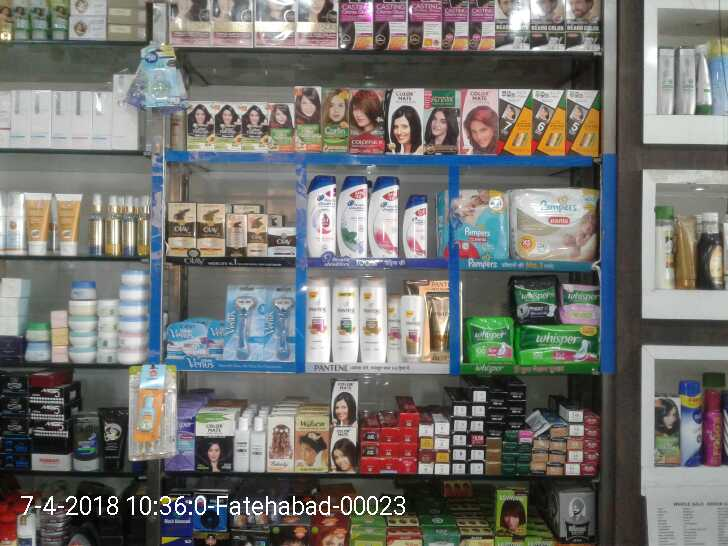venus: (225, 284, 264, 361), (264, 286, 294, 362), (167, 322, 207, 360), (208, 320, 224, 359)
